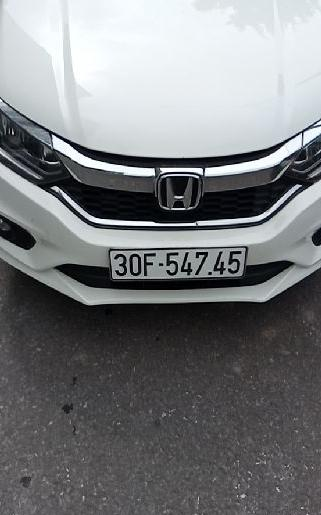Plate-iWeP: (110, 247, 247, 278)
